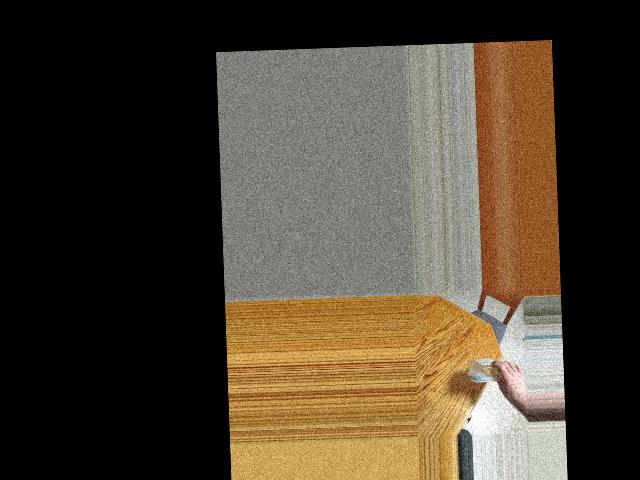cheese: (469, 350, 516, 390)
